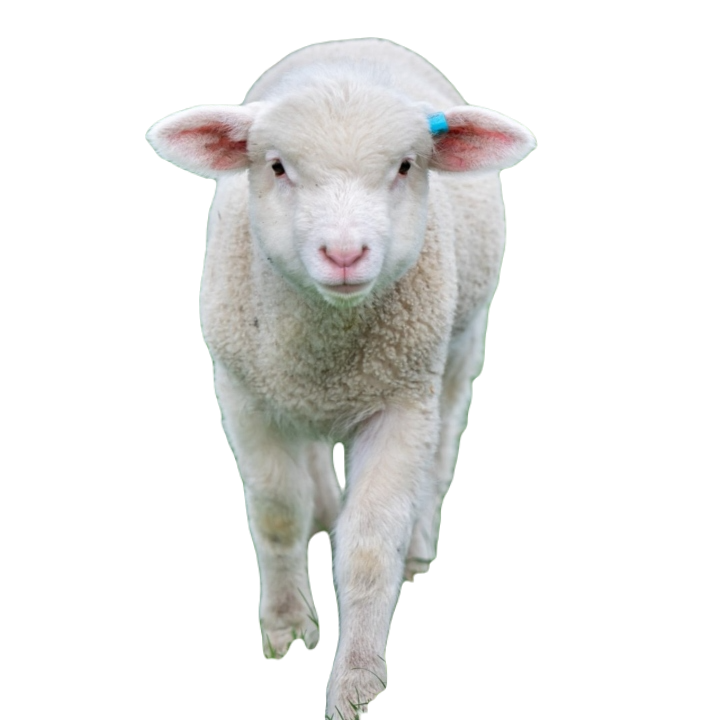Sheep: (142, 32, 544, 719)
